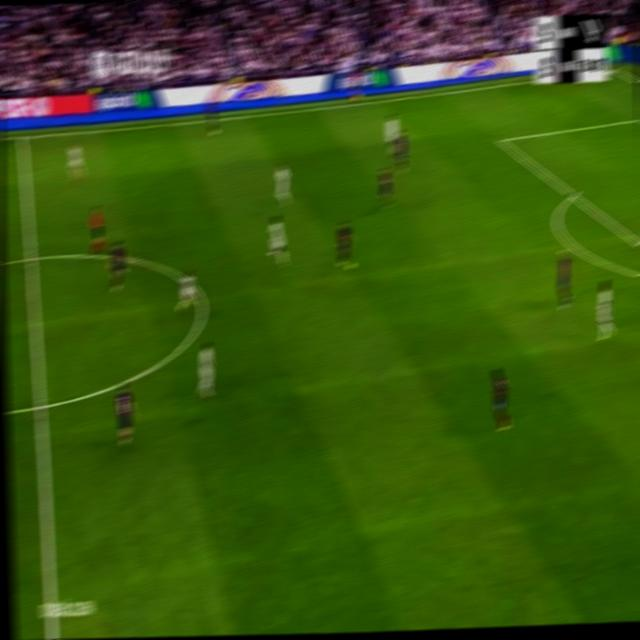bigarea_top_inner: (496, 131, 507, 148)
corner: (608, 62, 620, 74)
halfcircle_bottom: (30, 388, 49, 421)
halfcircle_top: (22, 242, 39, 271)
midline_top_intersection: (16, 129, 28, 145)
top_arc_area_intersection: (567, 185, 579, 203)
